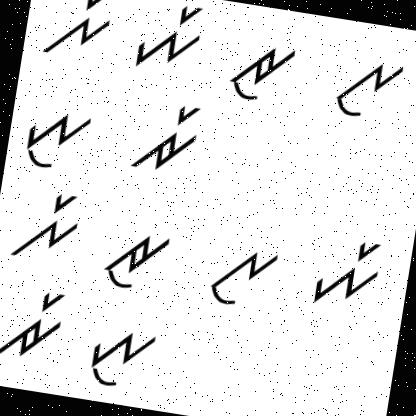lar: (9, 180, 85, 272), (37, 0, 122, 70)
law: (196, 230, 284, 318), (327, 53, 408, 128)
rar: (123, 94, 207, 180), (0, 284, 75, 370)
raw: (96, 216, 175, 298), (228, 33, 298, 108)
yar: (304, 227, 388, 317), (129, 0, 207, 79)
yaw: (80, 318, 163, 398), (16, 100, 95, 178)
